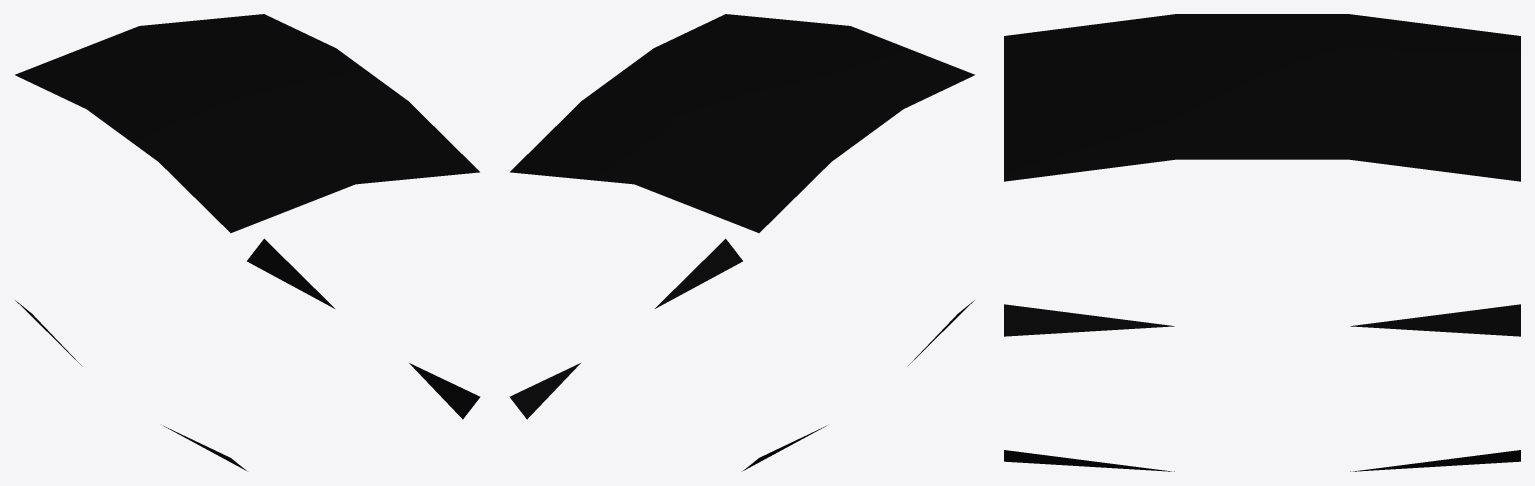
The model's file is a-int-tee.fbx.
3 views of the same model, side by side, from view 1: azimuth 30°, elevation 25°; view 2: azimuth 150°, elevation 25°; view 3: azimuth 270°, elevation 25° (orthographic). The views are drawn at different scales.
Visible parts, largest first — view 1: a-int-tee; view 2: a-int-tee; view 3: a-int-tee.
Part boxes in pixels (<box>): a-int-tee: <box>15,14,480,471</box>; a-int-tee: <box>509,14,974,471</box>; a-int-tee: <box>1004,14,1520,471</box>.
Bounding box in the file's own units: 2 × 2.06 × 3.
